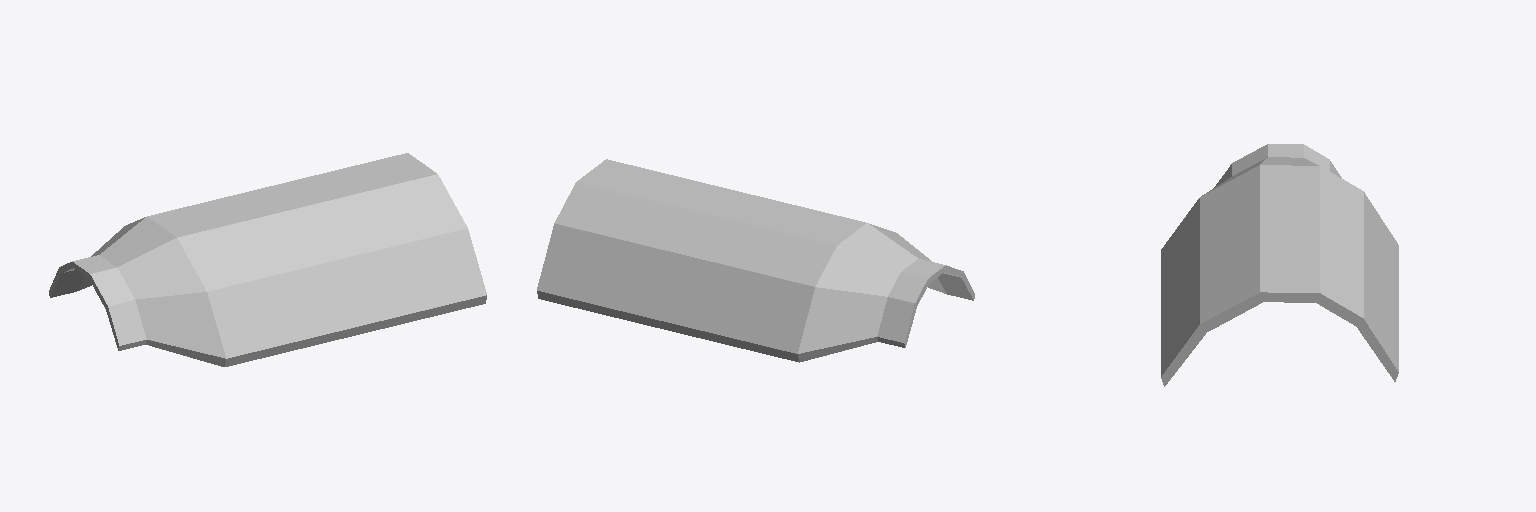
The model's file is Cape.obj.
3 views of the same model, side by side, from view 1: azimuth 30°, elevation 25°; view 2: azimuth 150°, elevation 25°; view 3: azimuth 270°, elevation 25° (orthographic).
Visible parts, largest first — view 1: pCube2; view 2: pCube2; view 3: pCube2.
Part boxes in pixels (x1,y1,x2,y2): pCube2: (49, 153, 486, 366); pCube2: (537, 159, 974, 362); pCube2: (1161, 144, 1398, 386).
Bounding box in the file's own units: 51.33 × 13.56 × 30.79.